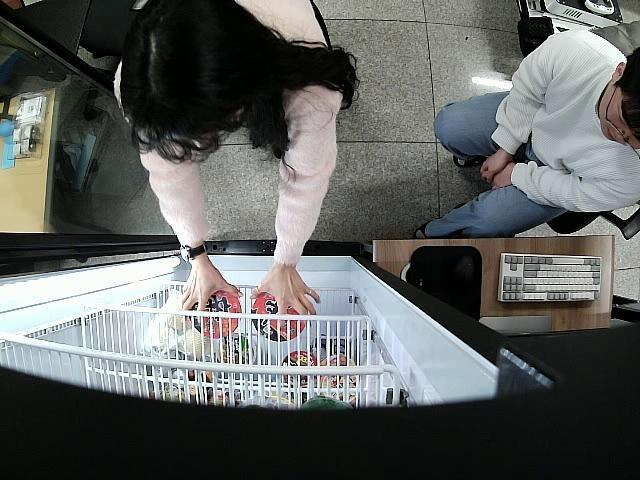01_ShinRamen_L: (250, 294, 306, 342), (188, 290, 242, 338)
